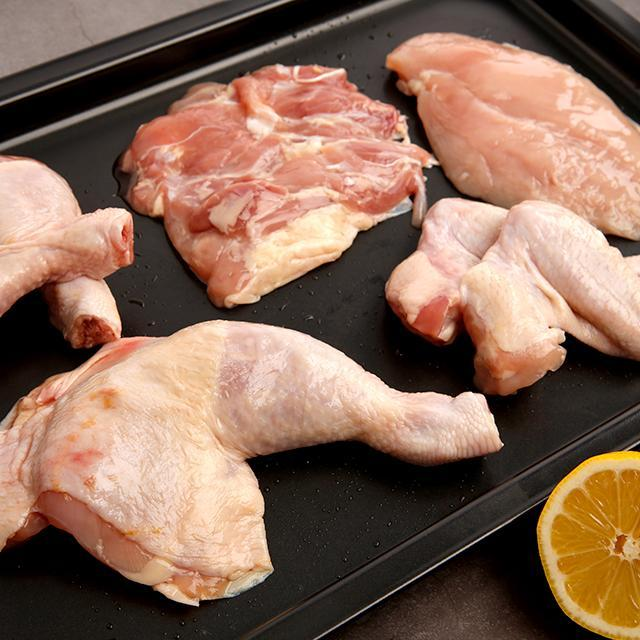chicken: (6, 309, 507, 639), (123, 58, 429, 332), (386, 22, 640, 249), (392, 190, 640, 408)
